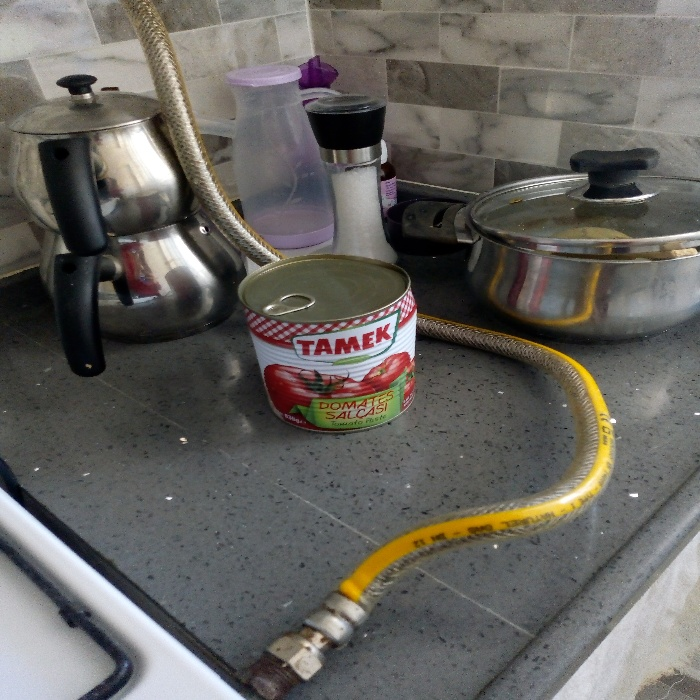salca: (223, 240, 437, 442)
